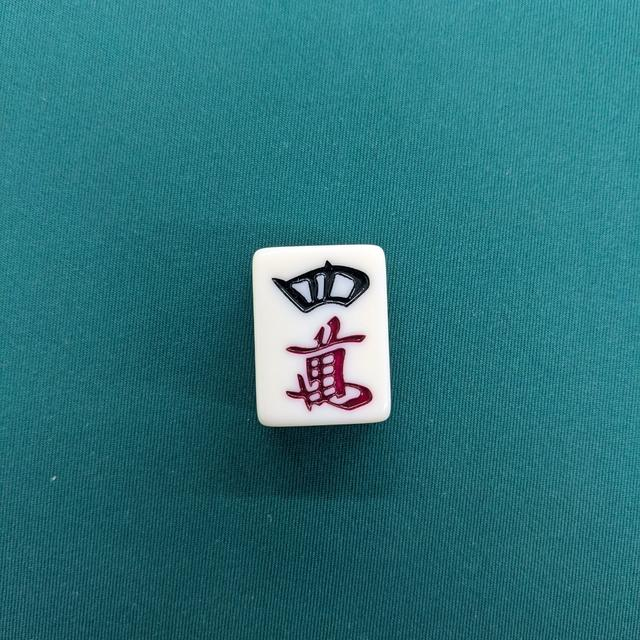4m: (253, 244, 393, 427)
